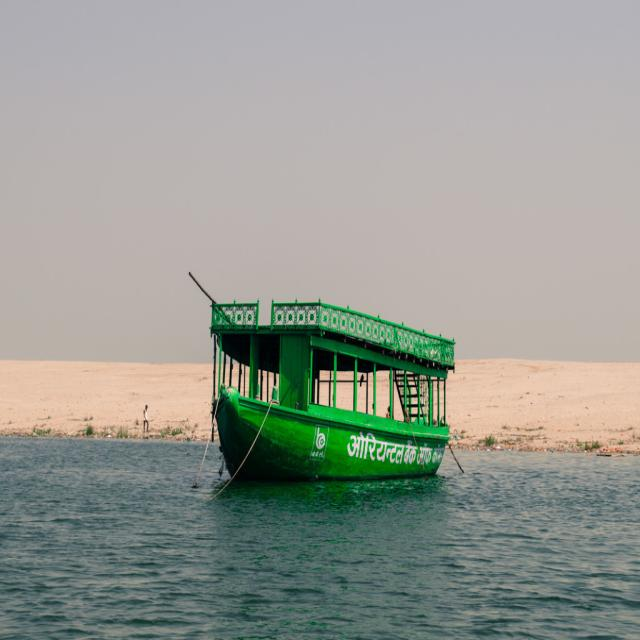Boat: (188, 276, 474, 492)
